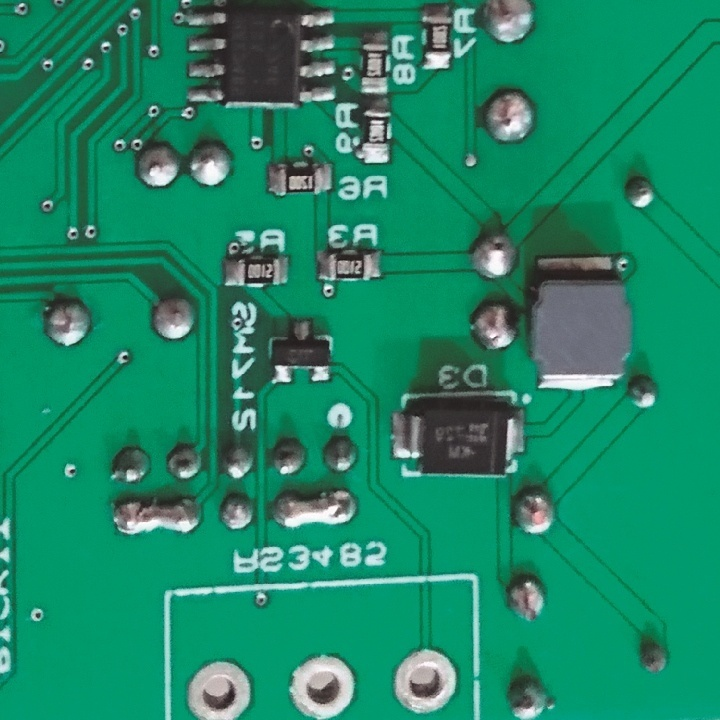F: (185, 658, 258, 720), (287, 652, 353, 719), (391, 647, 459, 712)
P: (268, 489, 356, 531), (109, 498, 200, 538)
